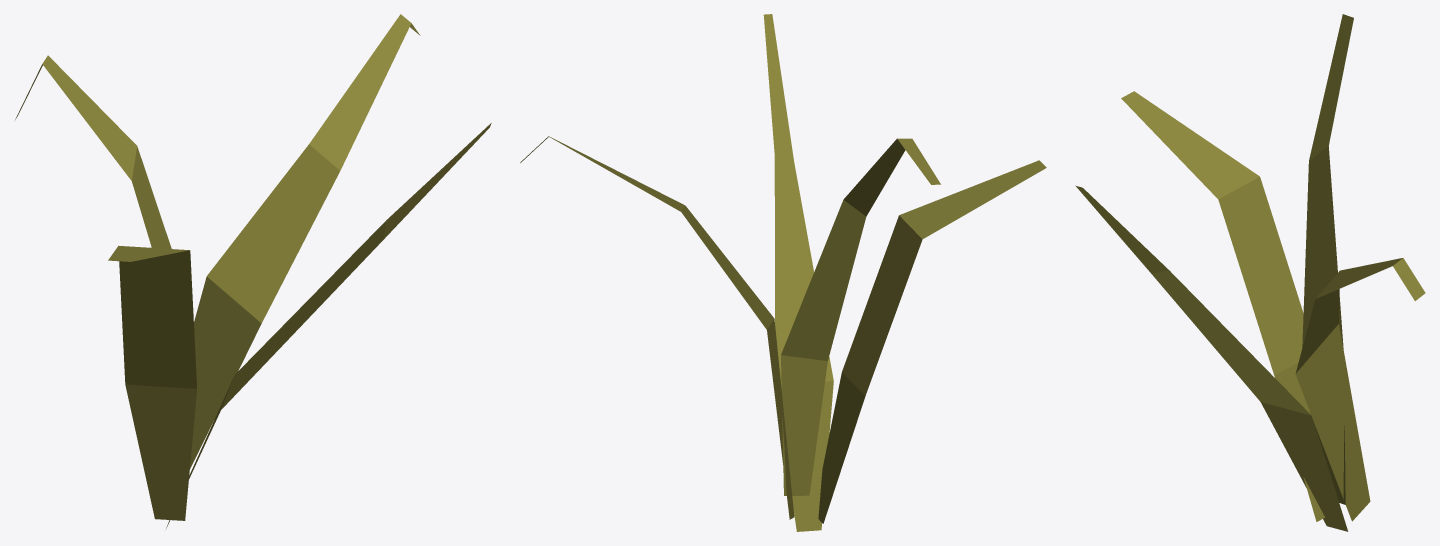
Rendered from grass.fbx.
3 views of the same model, side by side, from view 1: azimuth 30°, elevation 25°; view 2: azimuth 150°, elevation 25°; view 3: azimuth 270°, elevation 25° (orthographic). The views are drawn at different scales.
Visible parts, largest first — view 1: plant; view 2: plant; view 3: plant.
Boxes of the visible parts, <box> form: plant: <box>15,14,491,528</box>; plant: <box>520,14,1046,531</box>; plant: <box>1075,14,1425,531</box>.
Size of the model in its own units: 52.05 by 52.81 by 36.34.
